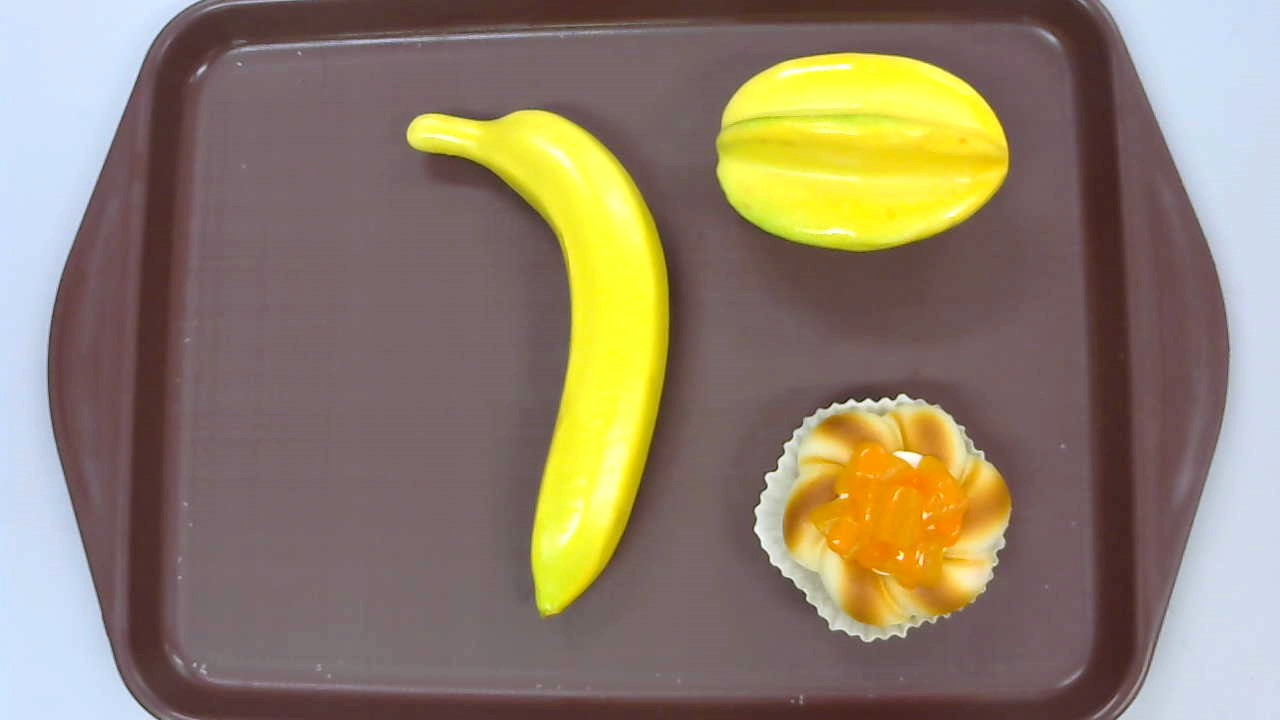banana: (407, 108, 672, 621)
mango tart: (753, 392, 1011, 644)
star fruit: (716, 53, 1010, 253)
